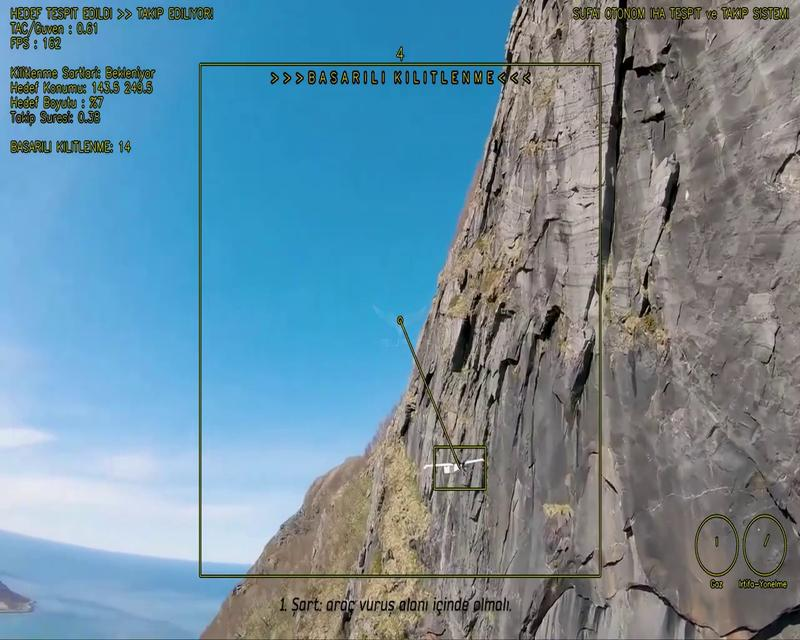UAV: (425, 457, 484, 475)
